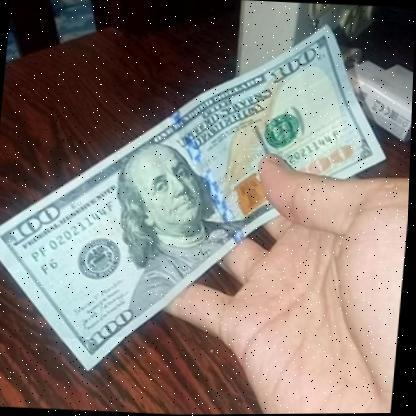dollar_front: (0, 10, 398, 375)
